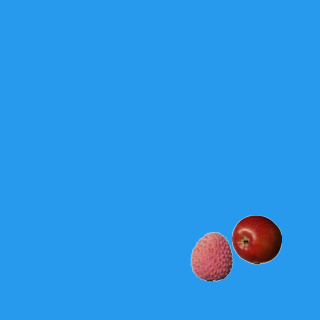Apple Braeburn: (231, 214, 281, 264)
Lychee: (186, 231, 236, 281)
